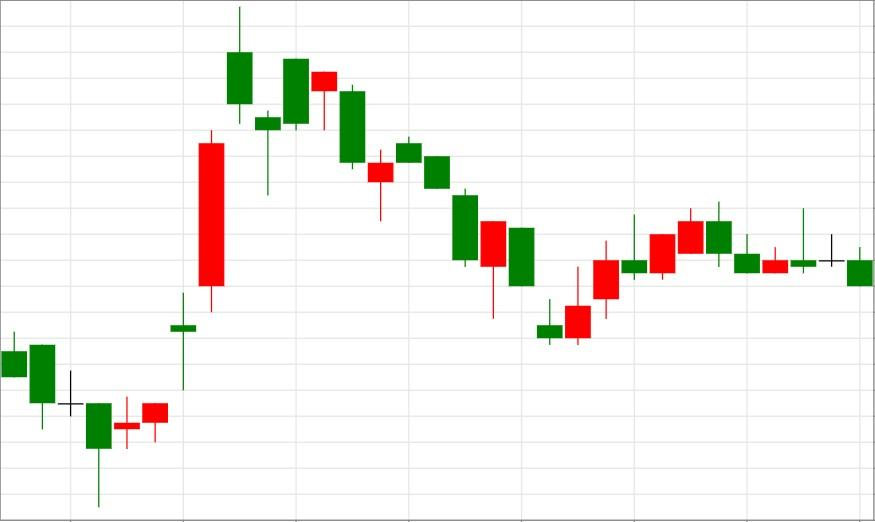bullish_engulfing_rise: (282, 57, 592, 345)
